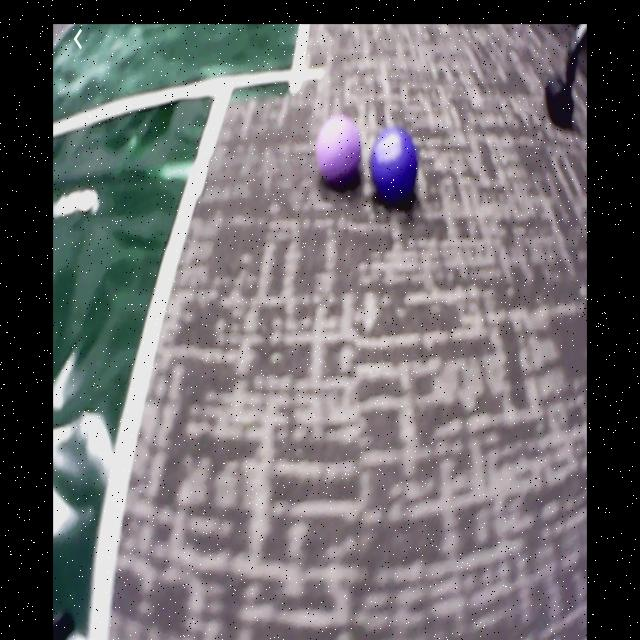ball: (371, 124, 419, 204), (317, 115, 363, 186)
